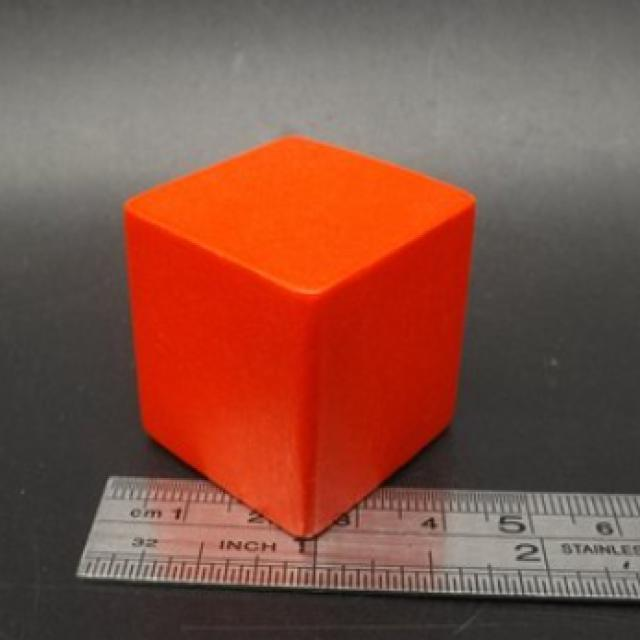red cube: (120, 128, 484, 546)
